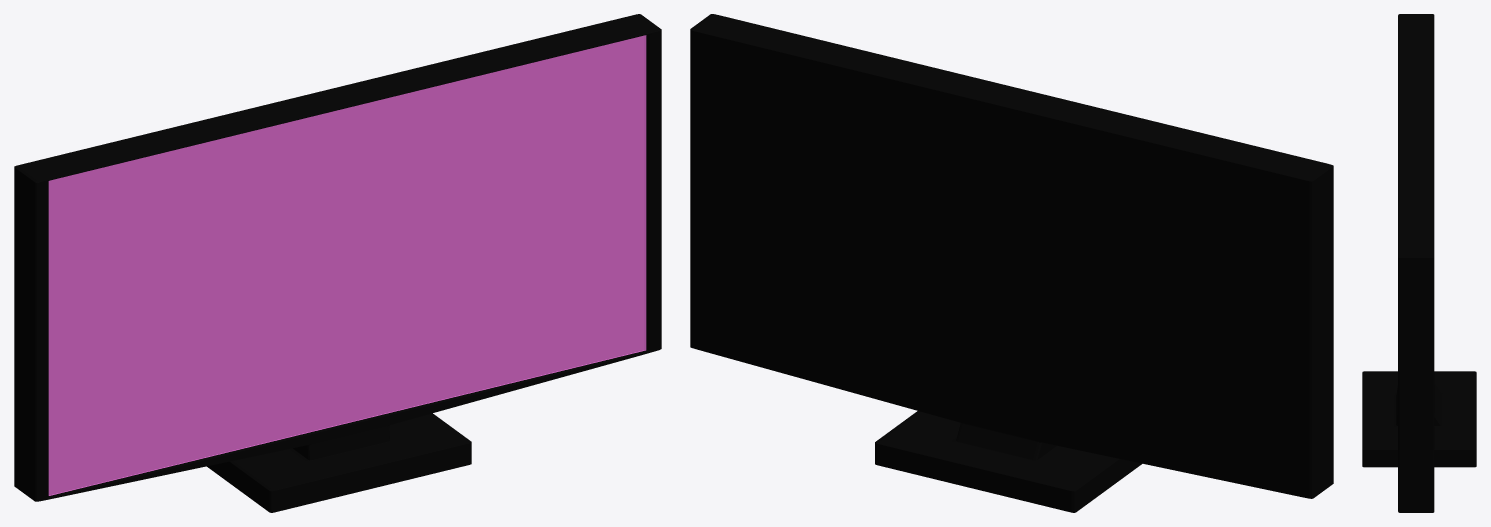
3 renders of one model, left to right at view 1: azimuth 30°, elevation 25°; view 2: azimuth 150°, elevation 25°; view 3: azimuth 270°, elevation 25°, orthographic. The views are drawn at different scales.
Parts seen in each view (by area): view 1: TV; view 2: TV; view 3: TV.
Part boxes in pixels (x1,y1,x2,y2): TV: [14, 14, 661, 512]; TV: [690, 14, 1333, 512]; TV: [1362, 14, 1476, 512].
Bounding box in the file's own units: 2.15 × 1.2 × 0.4255.
